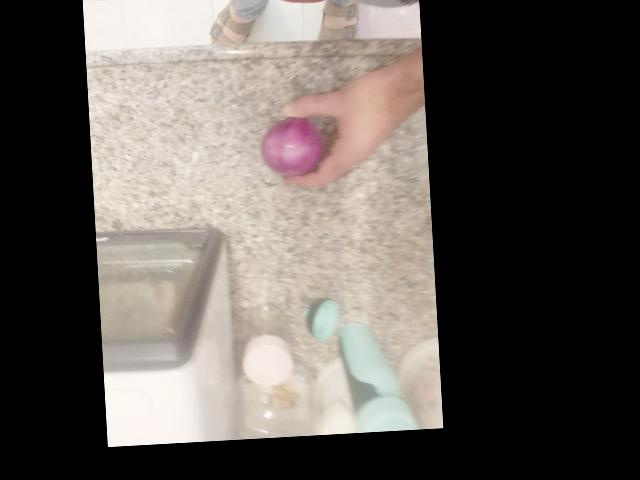onion: (87, 188, 172, 275)
